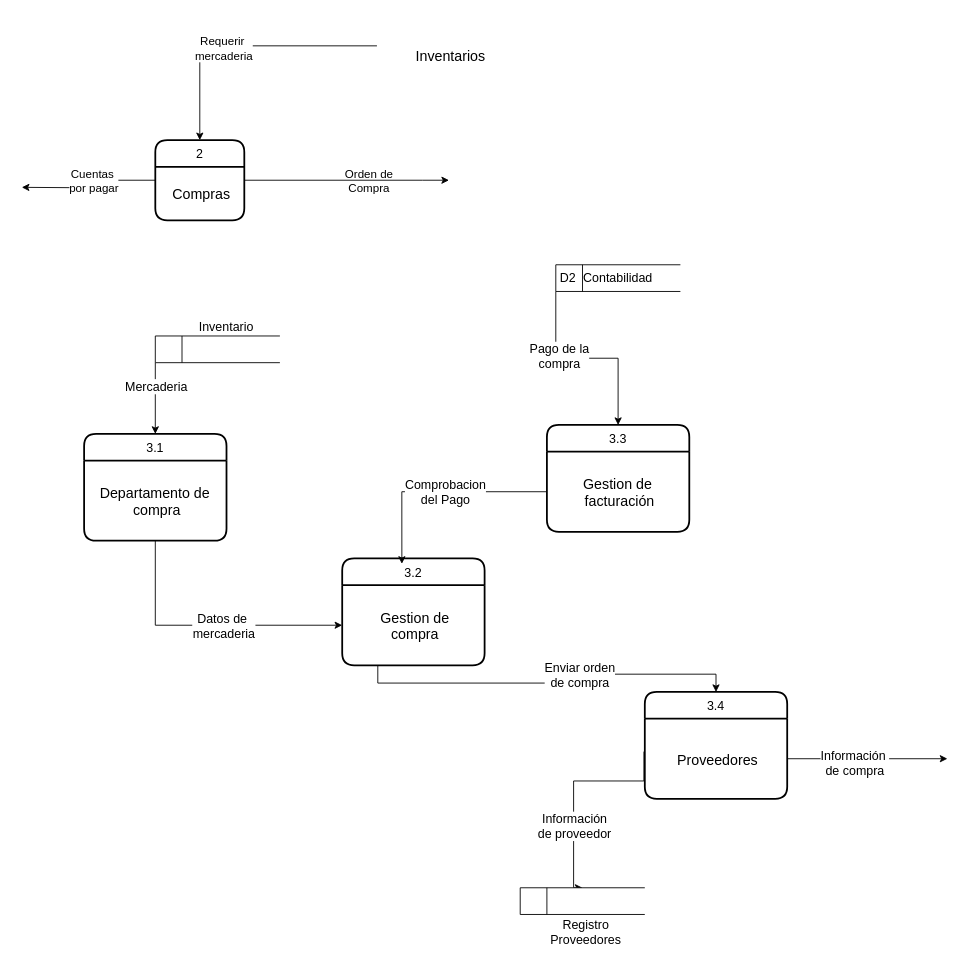
This 970x962 diagram has some shape labels left out. Here are the shapes that lost their labels. From the top down, the centre of each, then its label:
At point 217,349: "D1".
At point 582,900: "D3".
